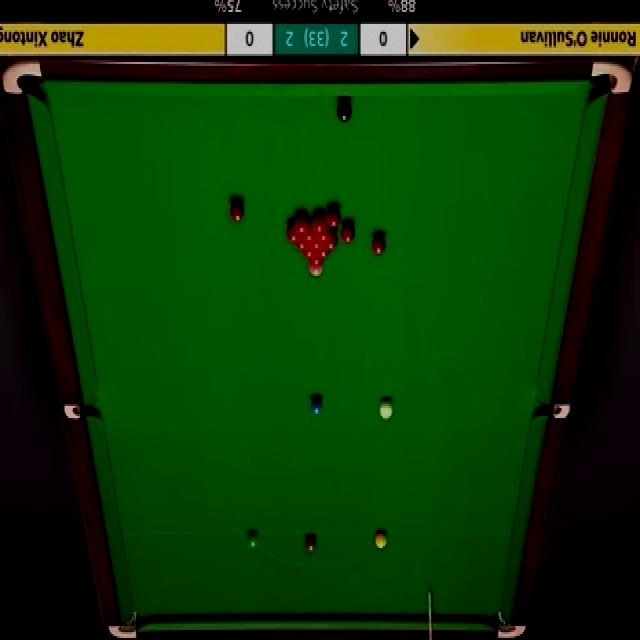black-ball: (337, 98, 352, 126)
blue-ball: (310, 393, 324, 418)
brown-ball: (306, 534, 318, 552)
green-ball: (247, 530, 258, 550)
pink-ball: (308, 267, 323, 279)
red-ball: (370, 230, 388, 255), (340, 219, 357, 245), (230, 196, 246, 222), (326, 203, 342, 228), (285, 221, 301, 243), (316, 223, 332, 244), (293, 213, 309, 234), (301, 223, 316, 243), (313, 210, 326, 233), (300, 246, 318, 258), (324, 239, 338, 251), (308, 258, 324, 268), (310, 241, 325, 251), (295, 241, 309, 250), (316, 250, 331, 258)
white-ball: (376, 394, 396, 422)
yellow-ball: (373, 530, 388, 551)
